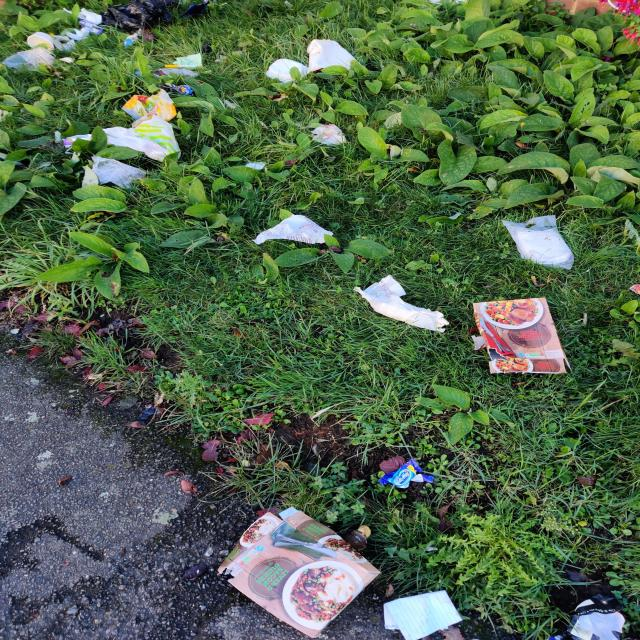litter: (39, 48, 215, 208), (212, 499, 393, 639), (3, 1, 215, 84), (340, 266, 455, 341), (257, 33, 387, 93), (376, 584, 467, 639), (244, 204, 344, 252), (370, 452, 445, 496), (302, 116, 359, 151)
